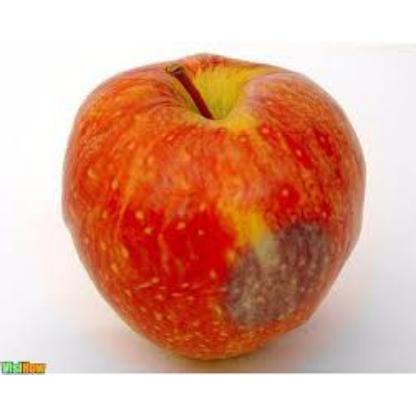damaged_apple: (59, 56, 367, 354)
